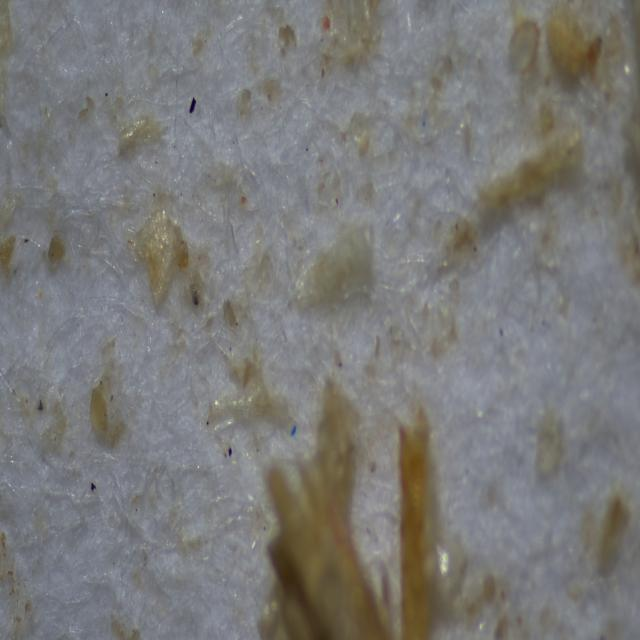microplastic: (120, 203, 193, 311)
